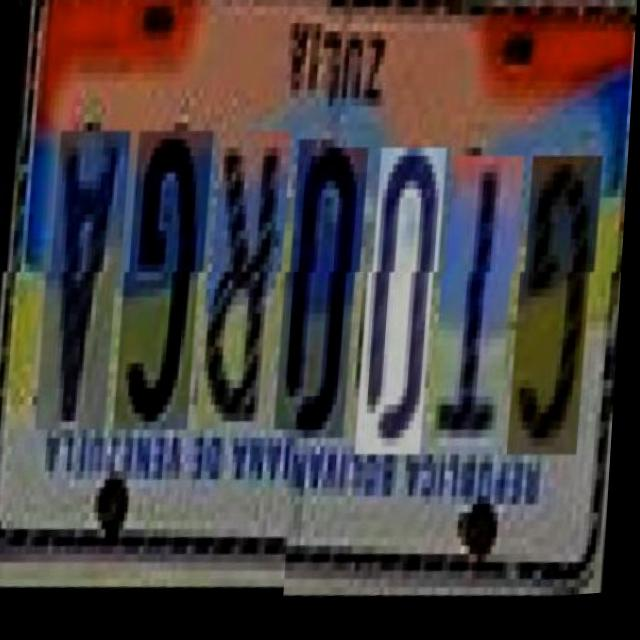0: (359, 146, 444, 461), (279, 146, 365, 444)
a: (39, 137, 126, 444)
g: (117, 136, 209, 444), (513, 153, 600, 460)
r: (200, 136, 287, 444)
t: (435, 153, 522, 460)
